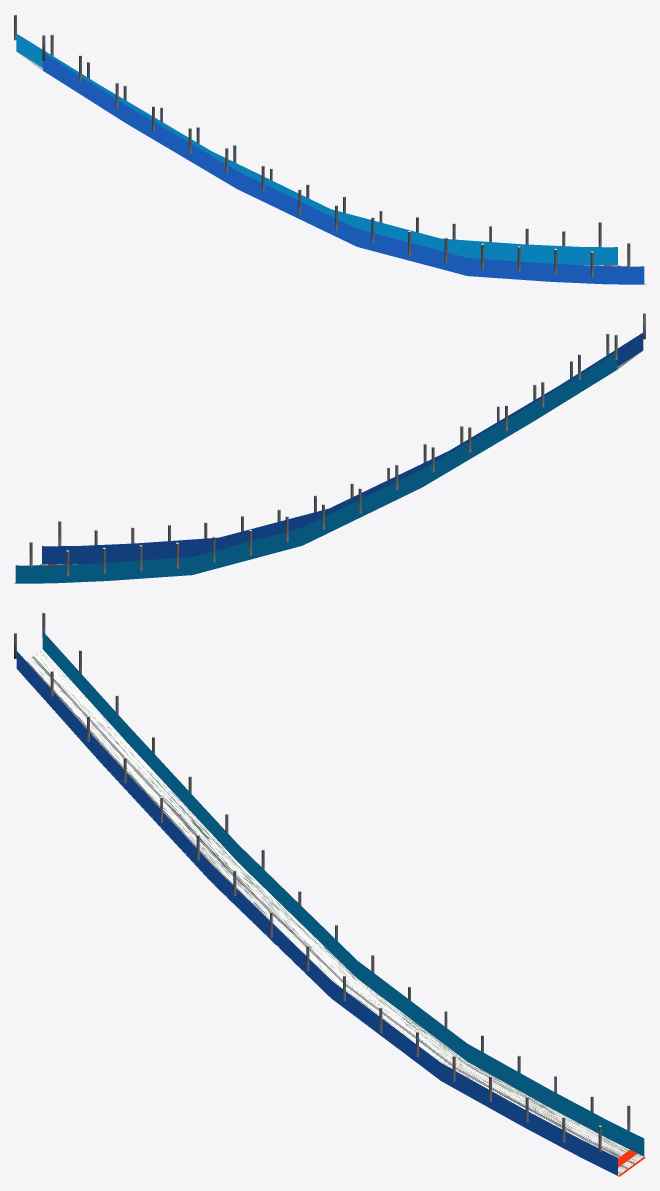
The model's file is スキー台完全版.fbx.
The picture shows the model from 3 angles, top to bottom: view 1: azimuth 30°, elevation 25°; view 2: azimuth 150°, elevation 25°; view 3: azimuth 330°, elevation 25°; orthographic projection.
Parts seen in each view (by area): view 1: 台の塀2, 台の塀1; view 2: 台の塀1, 台の塀2; view 3: ski dai, 台の塀1, 台の塀2.
Part boxes in pixels (x1,y1,x2,y2): 台の塀2: (43,54,644,284); 台の塀1: (16,33,617,265); 台の塀1: (15,353,617,583); 台の塀2: (42,332,643,564); ski dai: (17,649,643,1175); 台の塀1: (42,631,644,1156); 台の塀2: (16,651,617,1175).
Bounding box in the file's own units: 1654 × 1038 × 142.
Materials: 72 (35 with a texture image).
